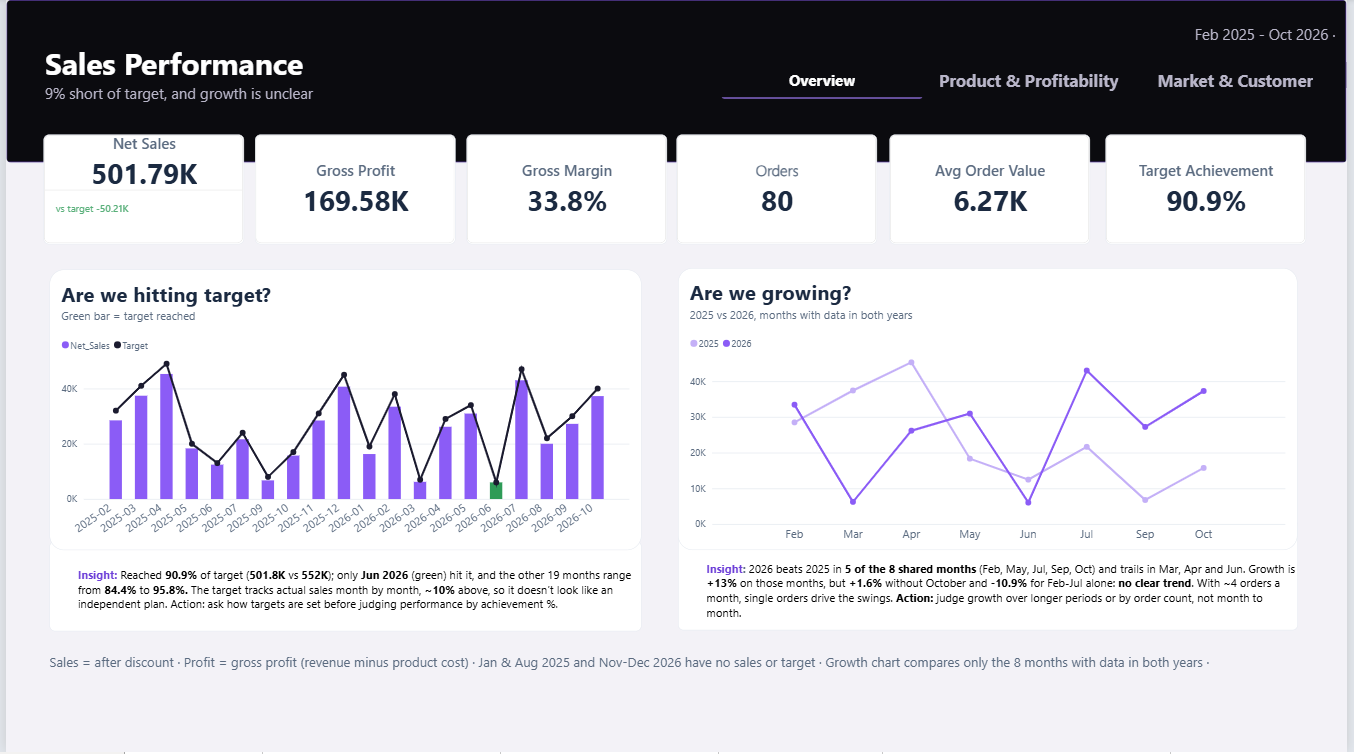

What the dashboard file says about the page in this screenshot:
{"tool":"powerbi","page":{"name":"Overview","canvas":[1920,1080],"ordinal":0},"visuals":[{"type":"shape","box":[0,1.6,1921.2,234.6],"z":0},{"type":"textbox","box":[55,65,1424.5,107.5],"z":1000},{"type":"cardVisual","fields":{"Data":["Measure.Net_Sales"]},"box":[54.3,195.7,287.5,157.5],"z":2000},{"type":"cardVisual","fields":{"Data":["Measure.Profit"]},"box":[356.5,195.7,287.5,157.5],"z":3000},{"type":"cardVisual","fields":{"Data":["Measure.Margin %"]},"box":[658.7,195.7,287.5,157.5],"z":4000},{"type":"cardVisual","fields":{"Data":["Measure.total_order"]},"box":[960.9,195.7,287.5,157.5],"z":5000},{"type":"cardVisual","fields":{"Data":["Measure.AOV"]},"box":[1265.2,195.7,287.5,157.5],"z":6000},{"type":"cardVisual","fields":{"Data":["Measure.Achievement %"]},"box":[1573.9,195.7,287.5,157.5],"z":7000},{"type":"textbox","box":[62.5,777.1,847.9,129.2],"z":8000},{"type":"lineClusteredColumnComboChart","title":"Are we hitting target?","fields":{"Category":["dim_date.Year-Month"],"Y":["Measure.Net_Sales"],"Y2":["Measure.target"]},"box":[62.5,389.6,847.9,402.1],"z":9000},{"type":"textbox","box":[962,748,888,158],"z":10000},{"type":"lineChart","title":"Are we growing?","fields":{"Category":["dim_date.Month_name"],"Series":["dim_date.Year"],"Y":["Measure.Net_Sales"]},"box":[962.5,387.5,887.5,404.2],"z":11000},{"type":"textbox","box":[1422,36,482,46],"z":12000},{"type":"pageNavigator","box":[1025,92.5,880,52.5],"z":13000},{"type":"textbox","box":[62.5,939.3,1788.9,38.1],"z":15000}]}

Visuals, with their boxes in screenshot pixels (x1, y1, x2, y2), scaled from the page's 1920x1080 canvas onto the 1354x754 screenshot:
shape: [left=0, top=1, right=1353, bottom=165]
textbox: [left=39, top=45, right=1043, bottom=120]
cardVisual - Measure.Net_Sales: [left=38, top=137, right=241, bottom=247]
cardVisual - Measure.Profit: [left=251, top=137, right=454, bottom=247]
cardVisual - Measure.Margin %: [left=465, top=137, right=667, bottom=247]
cardVisual - Measure.total_order: [left=678, top=137, right=880, bottom=247]
cardVisual - Measure.AOV: [left=892, top=137, right=1095, bottom=247]
cardVisual - Measure.Achievement %: [left=1110, top=137, right=1313, bottom=247]
textbox: [left=44, top=543, right=642, bottom=633]
"Are we hitting target?" lineClusteredColumnComboChart: [left=44, top=272, right=642, bottom=553]
textbox: [left=678, top=522, right=1305, bottom=633]
"Are we growing?" lineChart: [left=679, top=271, right=1305, bottom=553]
textbox: [left=1003, top=25, right=1343, bottom=57]
pageNavigator: [left=723, top=65, right=1343, bottom=101]
textbox: [left=44, top=656, right=1306, bottom=682]
